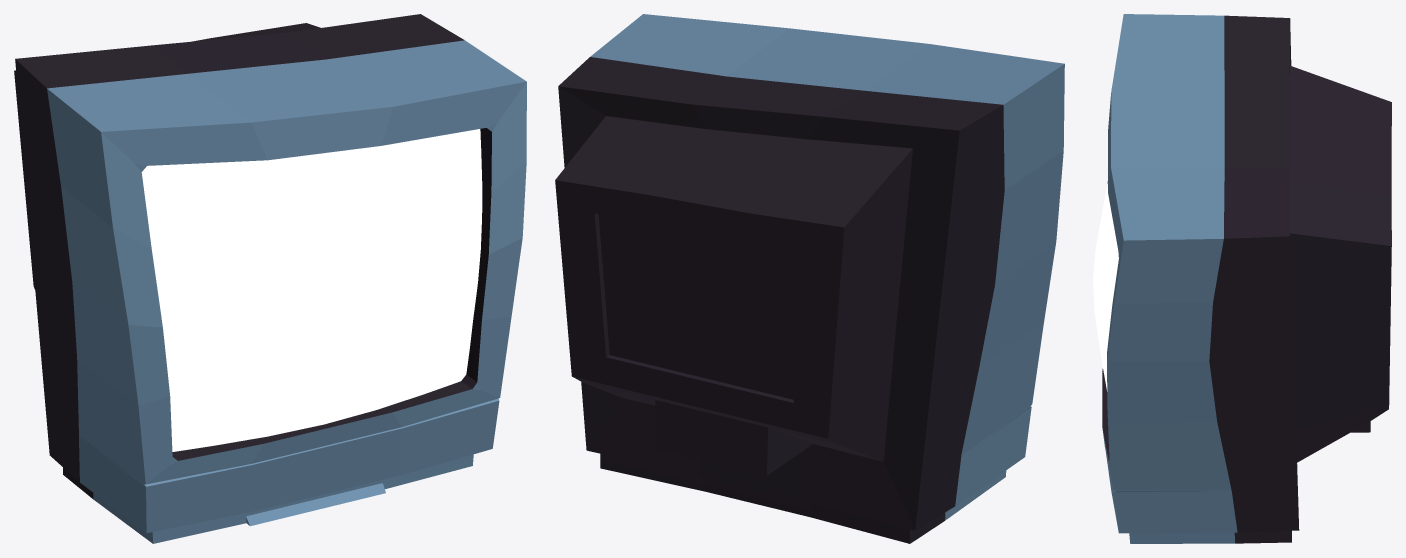
The model's file is Televisionv04.glb.
The picture shows the model from 3 angles, left to right: view 1: azimuth 30°, elevation 25°; view 2: azimuth 150°, elevation 25°; view 3: azimuth 270°, elevation 25°; orthographic projection. The views are drawn at different scales.
Visible parts, largest first — view 1: Television, Screen; view 2: Television; view 3: Television, Screen.
Boxes of the visible parts, left/top/right/bottom form: Television: left=14, top=14, right=526, bottom=543; Screen: left=141, top=129, right=482, bottom=451; Television: left=555, top=14, right=1064, bottom=543; Television: left=1102, top=14, right=1391, bottom=543; Screen: left=1093, top=184, right=1118, bottom=391.
Size of the model in its own units: 2.15 by 2.07 by 1.51.
